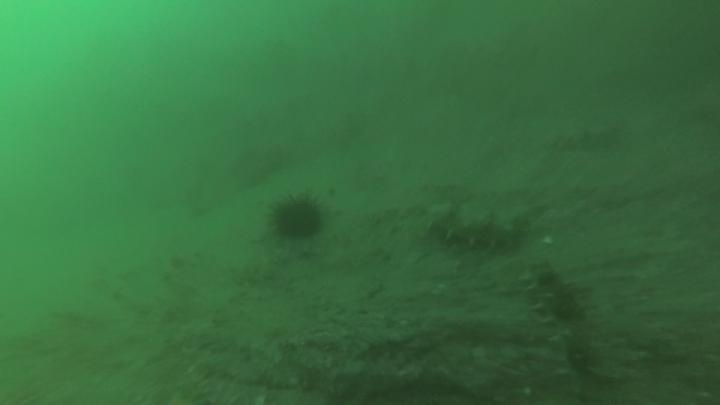echinus: (266, 190, 328, 246)
holothurian: (421, 198, 532, 254), (525, 255, 591, 332), (551, 328, 607, 404), (544, 119, 625, 155)
